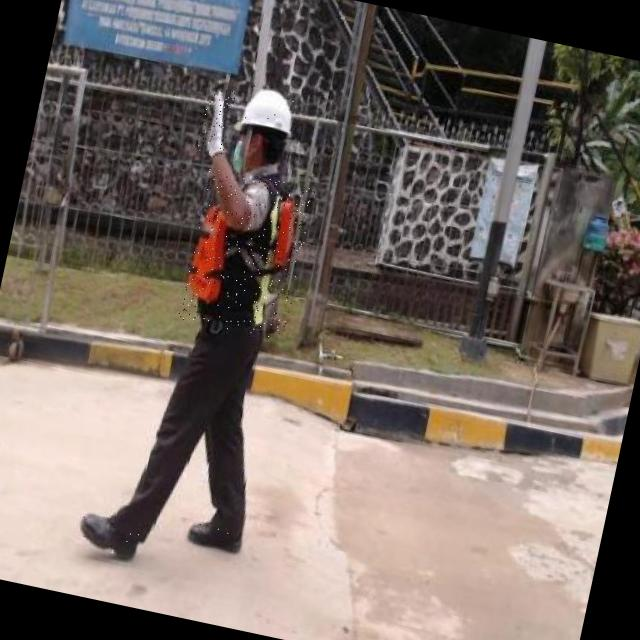hard_hat: (232, 83, 300, 140)
safety_vest: (178, 166, 316, 341)
work_boots: (72, 509, 146, 562), (182, 508, 249, 560)
